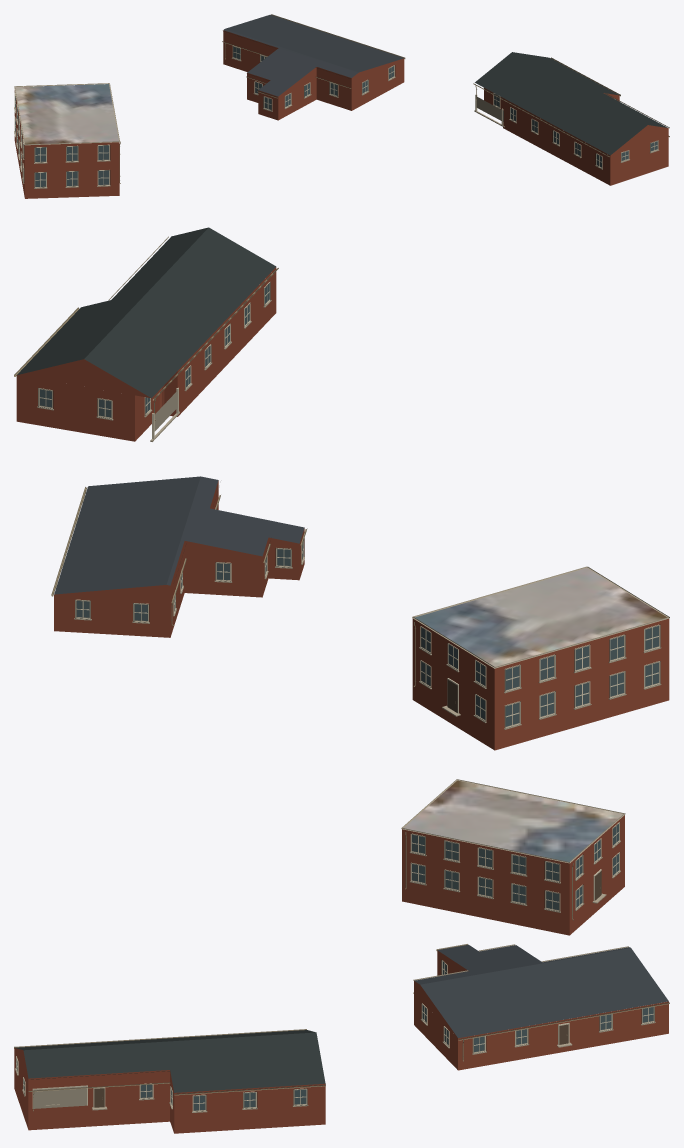
3 views of the same model, one above another, from view 1: azimuth 30°, elevation 25°; view 2: azimuth 150°, elevation 25°; view 3: azimuth 270°, elevation 25° (orthographic). The views are drawn at different scales.
Parts seen in each view (by area): view 1: -5_-2_623906093_4, -5_-2_782114960_47; view 2: -5_-2_623906093_4, -5_-2_782114960_47; view 3: -5_-2_623906093_4, -5_-2_782114960_47.
Boxes of the visible parts, box(x1,y1,x2,y2) form: -5_-2_623906093_4: box(14, 14, 669, 198); -5_-2_782114960_47: box(15, 84, 118, 144); -5_-2_623906093_4: box(14, 227, 669, 750); -5_-2_782114960_47: box(415, 568, 666, 666); -5_-2_623906093_4: box(14, 779, 669, 1133); -5_-2_782114960_47: box(403, 780, 622, 861).
Size of the model in its own units: 78.43 by 12.03 by 67.21.
Materials: 11 (1 with a texture image).
